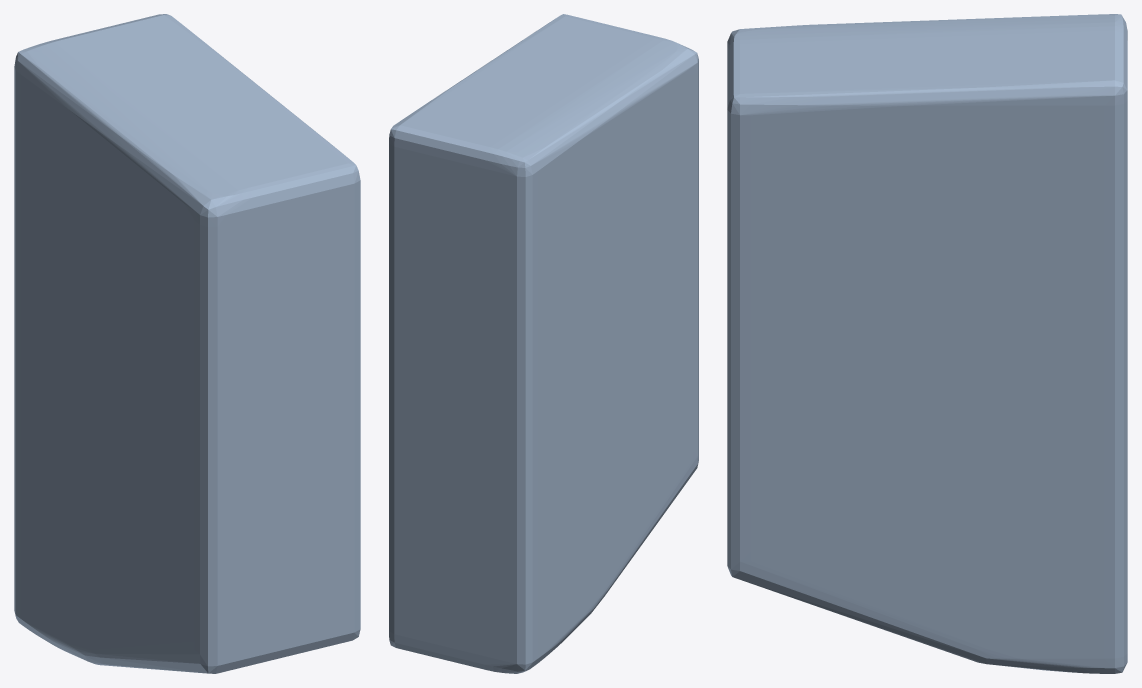
File: left_f_middle_part_6.obj
3 renders of one model, left to right at view 1: azimuth 30°, elevation 25°; view 2: azimuth 150°, elevation 25°; view 3: azimuth 270°, elevation 25°, orthographic. The views are drawn at different scales.
Bounding box in the file's own units: 4.8 × 16.78 × 10.29.
